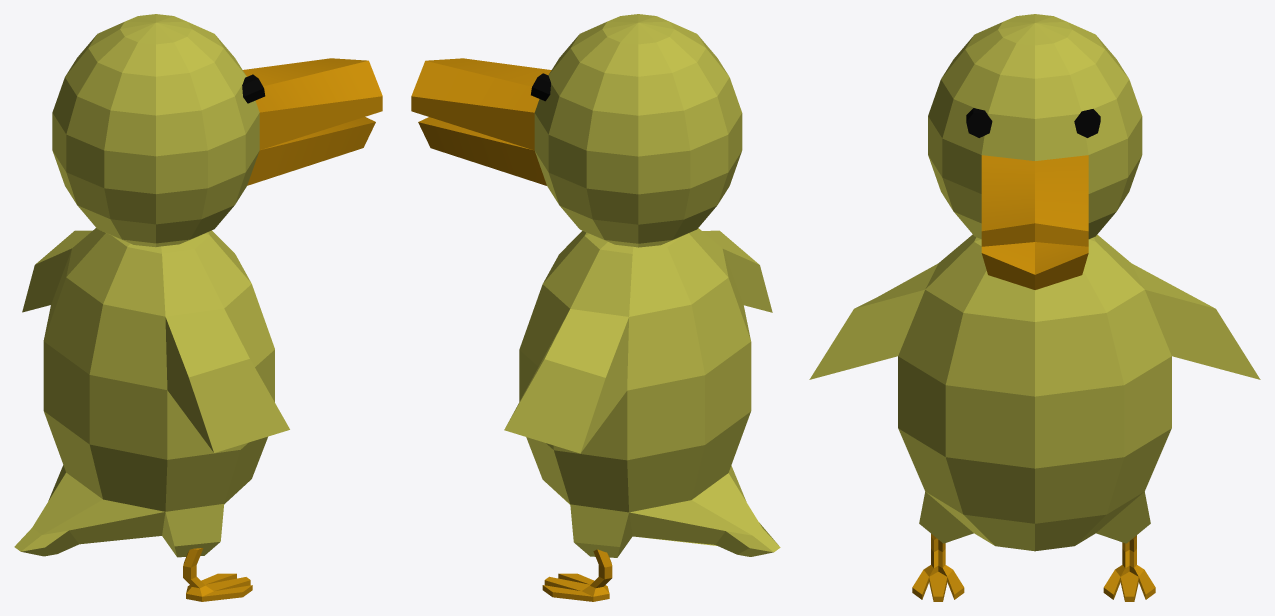
The model's file is Duckling.fbx.
3 renders of one model, left to right at view 1: azimuth 30°, elevation 25°; view 2: azimuth 150°, elevation 25°; view 3: azimuth 270°, elevation 25°, orthographic. The views are drawn at different scales.
Visible parts, largest first — view 1: pSphere3; view 2: pSphere3; view 3: pSphere3.
Part boxes in pixels (x1,y1,x2,y2): pSphere3: [14, 14, 382, 601]; pSphere3: [411, 14, 780, 601]; pSphere3: [809, 14, 1260, 601].
Bounding box in the file's own units: 7.71 × 11.28 × 8.3.
